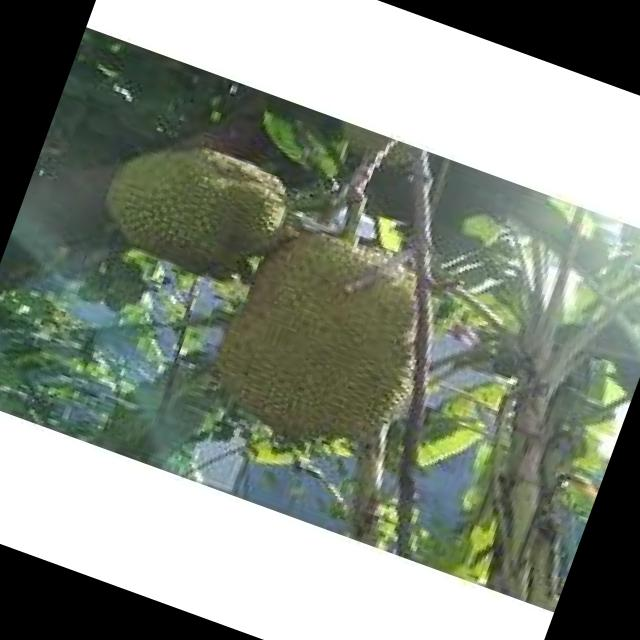Fruit: (183, 193, 479, 495), (74, 106, 311, 316)
